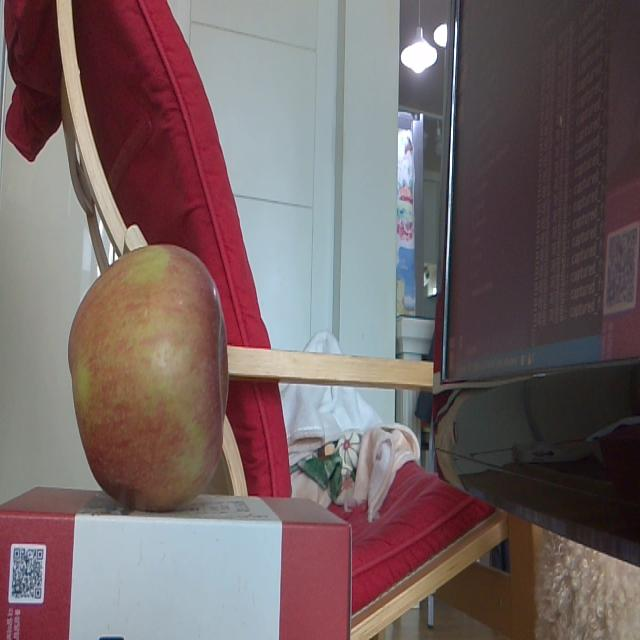apple: (60, 239, 234, 514)
